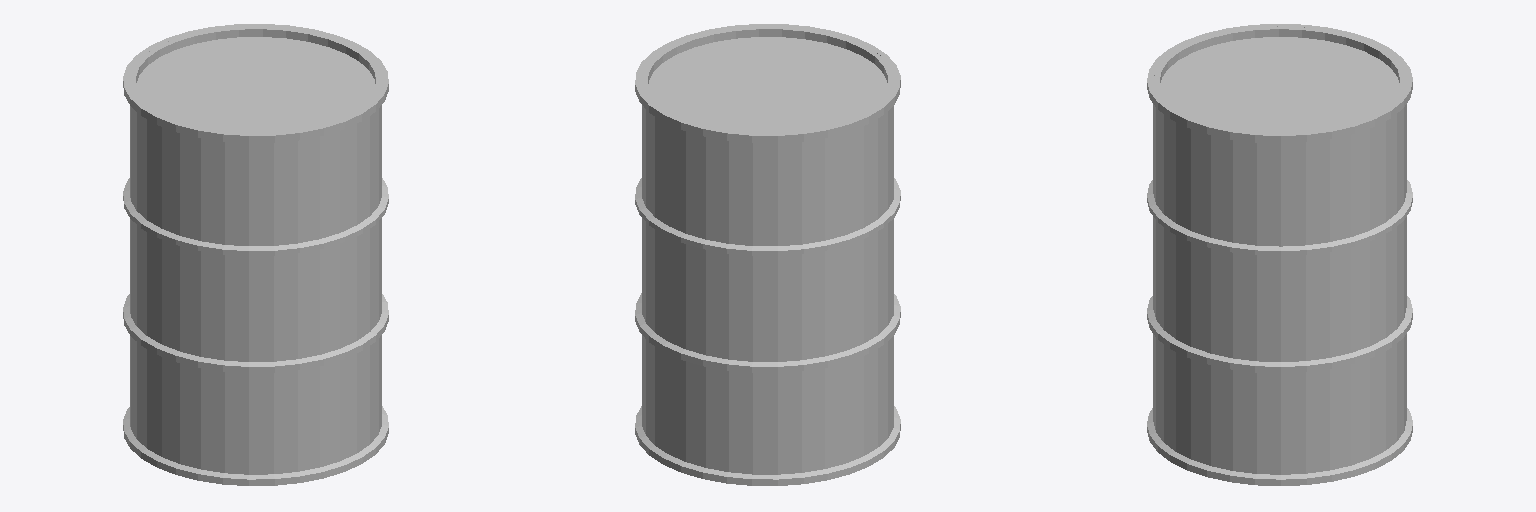
The model's file is barrel1.obj.
3 renders of one model, left to right at view 1: azimuth 30°, elevation 25°; view 2: azimuth 150°, elevation 25°; view 3: azimuth 270°, elevation 25°, orthographic.
Parts seen in each view (by area): view 1: Cylinder01; view 2: Cylinder01; view 3: Cylinder01.
Part boxes in pixels (left/top/right/bottom): Cylinder01: left=123, top=24, right=388, bottom=485; Cylinder01: left=635, top=24, right=900, bottom=485; Cylinder01: left=1147, top=24, right=1412, bottom=485.
Size of the model in its own units: 1.25 by 1.83 by 1.25.